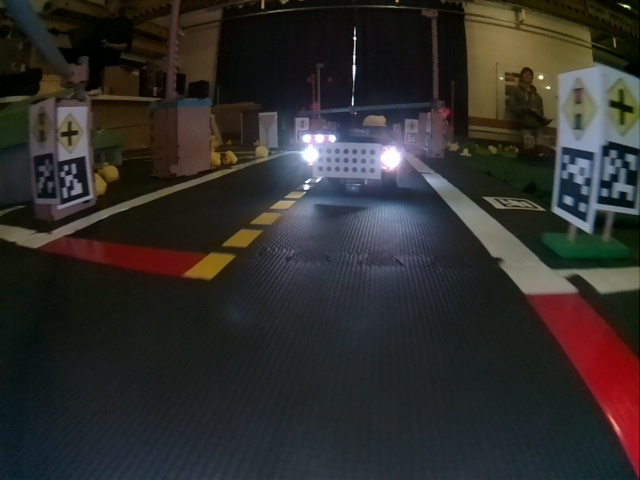Duckie: (362, 115, 386, 126), (94, 175, 107, 194), (102, 165, 119, 179), (225, 151, 238, 164), (256, 146, 268, 157), (212, 152, 221, 166), (450, 143, 460, 152), (461, 148, 470, 157), (489, 147, 497, 154)
Duckiebot: (306, 133, 400, 186)
Intersection sign: (602, 73, 636, 141), (58, 108, 85, 153), (405, 119, 418, 132)
QR code: (555, 145, 596, 226), (598, 143, 630, 213), (59, 157, 91, 206), (30, 152, 57, 203), (483, 196, 541, 211), (405, 133, 418, 145)
Signal sign: (558, 76, 599, 140), (30, 105, 54, 146)
